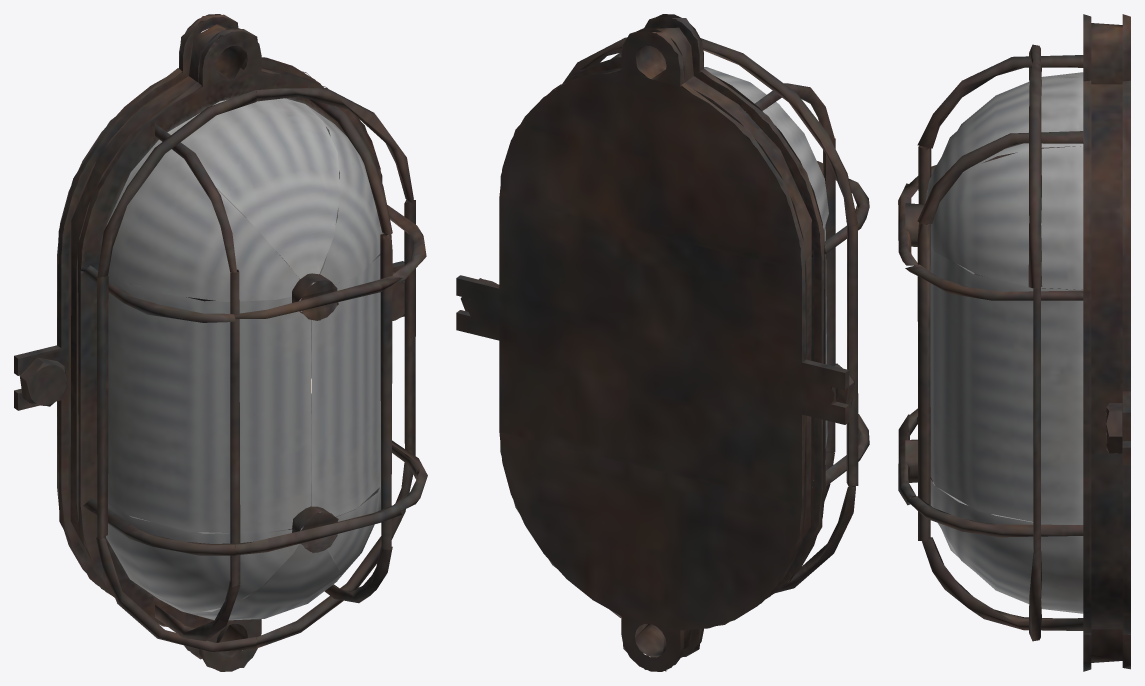
File: distance.fbx
The picture shows the model from 3 angles, left to right: view 1: azimuth 30°, elevation 25°; view 2: azimuth 150°, elevation 25°; view 3: azimuth 270°, elevation 25°; orthographic projection.
Parts seen in each view (by area): view 1: industrial_wall_lamp; view 2: industrial_wall_lamp; view 3: industrial_wall_lamp.
Boxes of the visible parts, box(x1,y1,x2,y2) form: industrial_wall_lamp: box(14, 14, 427, 671); industrial_wall_lamp: box(456, 14, 869, 671); industrial_wall_lamp: box(898, 14, 1130, 671).
Bounding box in the file's own units: 27.37 × 42.99 × 14.
